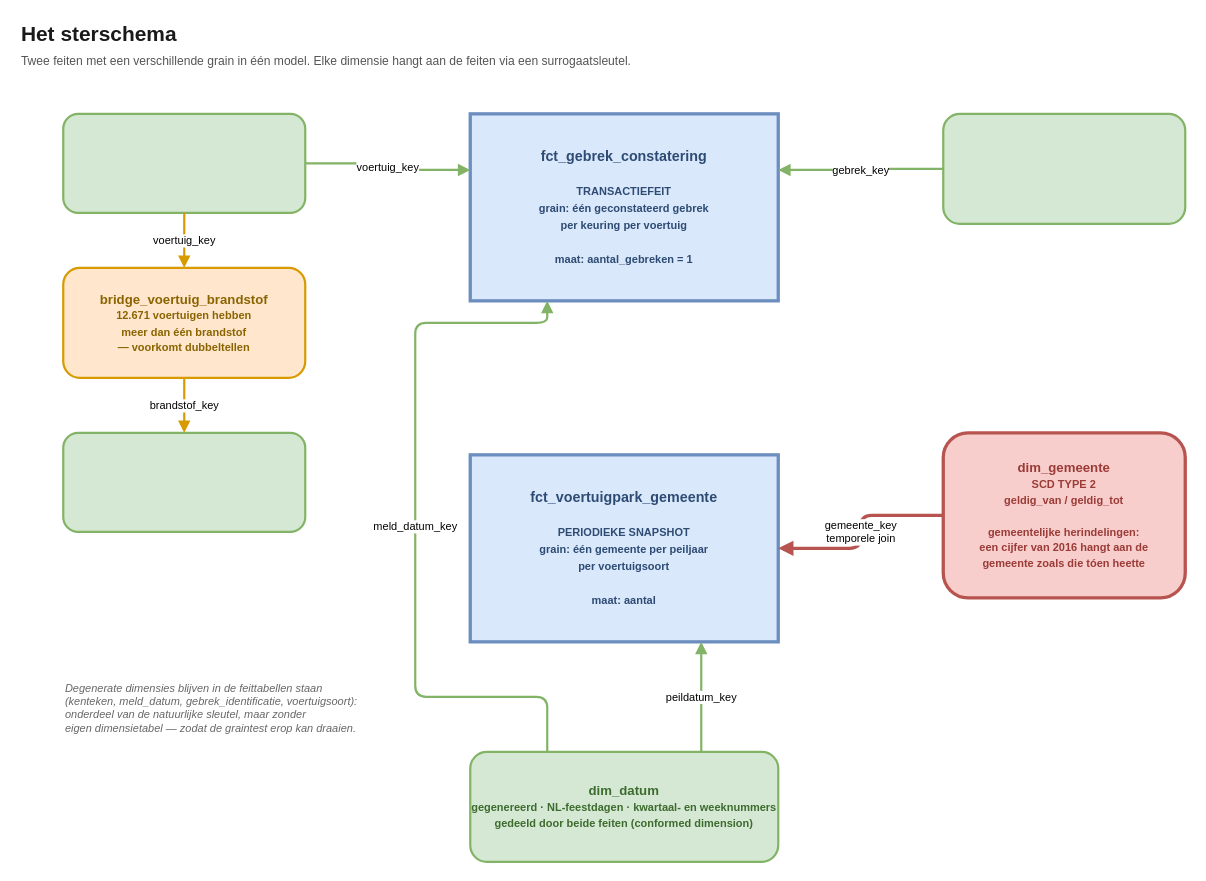
The diagram is 1206 pixels wide and 881 high, and some of its shapes have lost their labels. Here are the shapes that lost their labels. From the top down, the box of each, then its label:
(62, 112, 306, 213): dim_voertuig SCD type 1 kenteken + typekenmerken
(942, 112, 1186, 224): dim_gebrek SCD type 1 RDW-gebrekcode, omschrijving en geldigheidsperiode
(62, 431, 306, 532): dim_brandstof SCD type 1 kleine referentielijst
